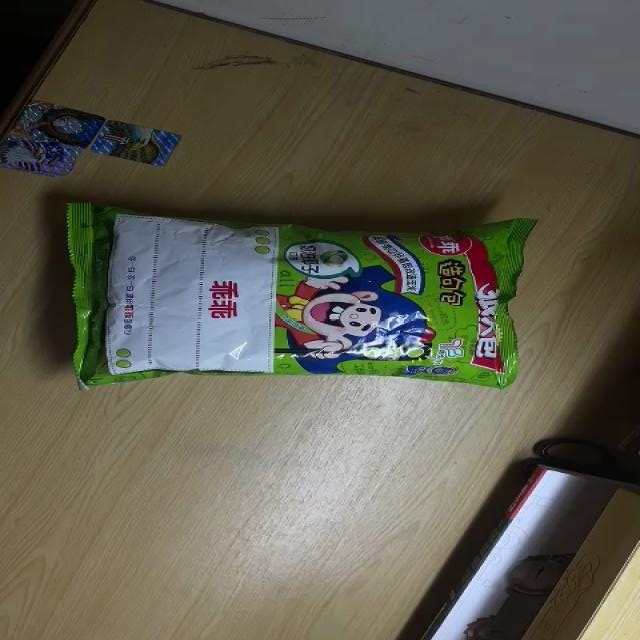Good-Luck: (64, 199, 540, 392)
